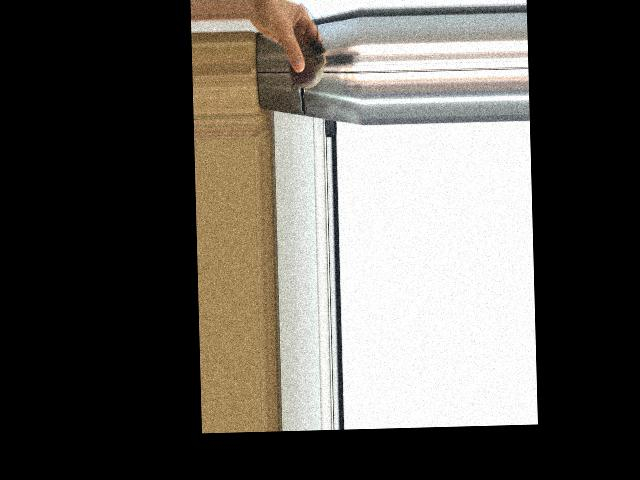beet: (287, 3, 326, 97)
